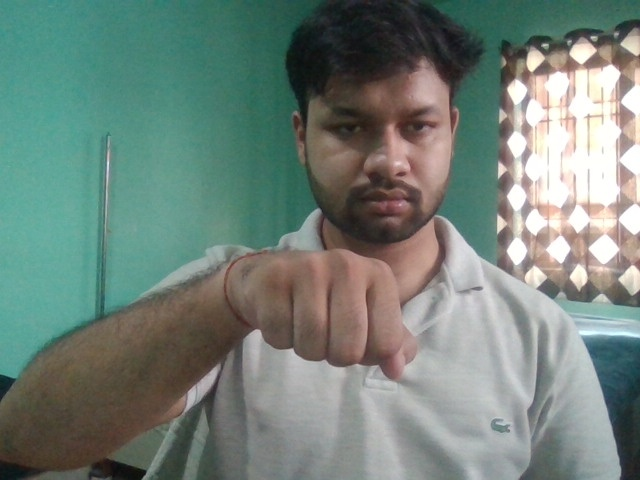Yes: (223, 246, 424, 389)
